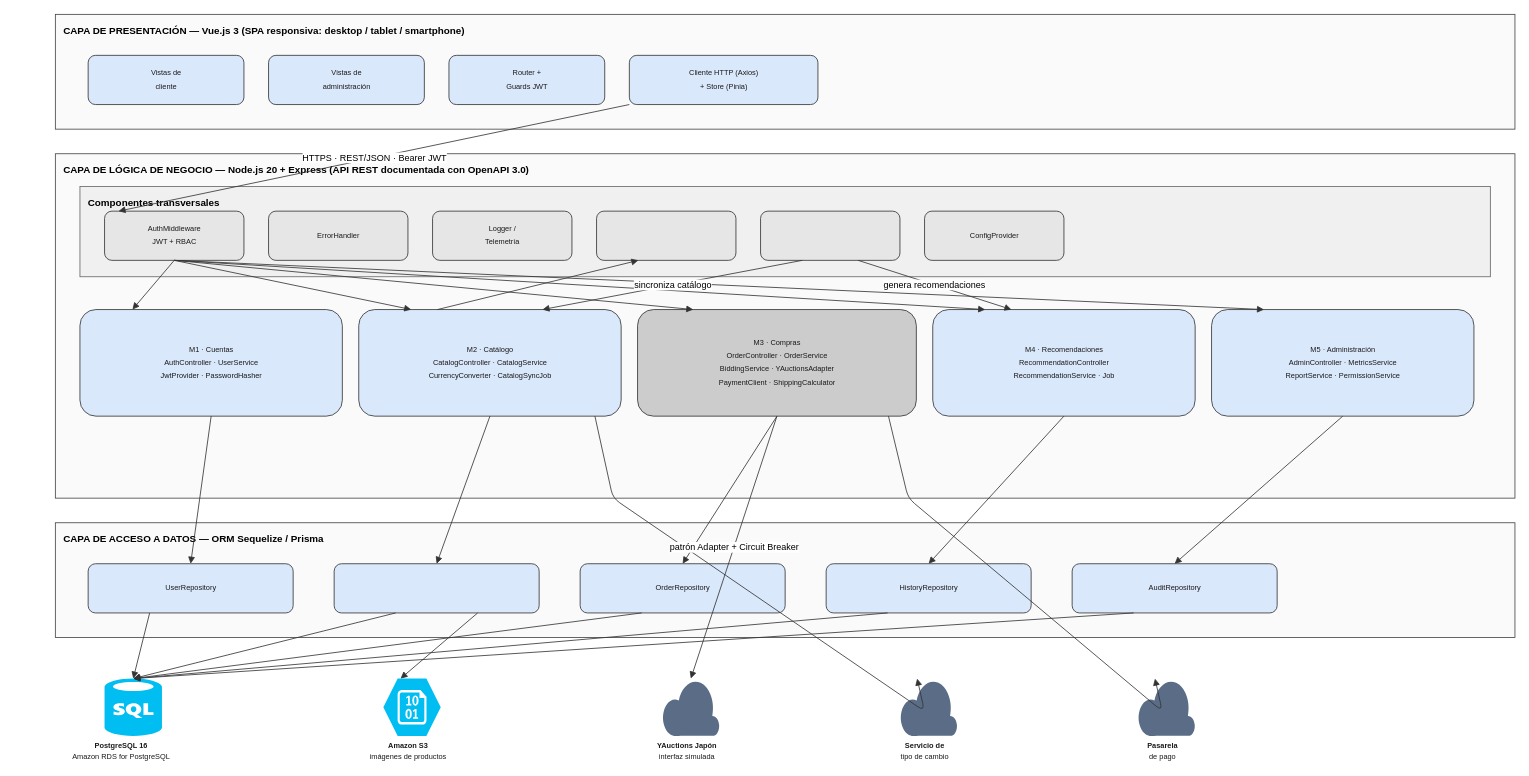
Image size: 1529x776. Some labels were removed from this diagram. Each missing label, with the centre of its shape:
"CacheProvider" belongs at point (666, 235).
"ProductRepository" belongs at point (436, 588).
"Scheduler" belongs at point (830, 235).
